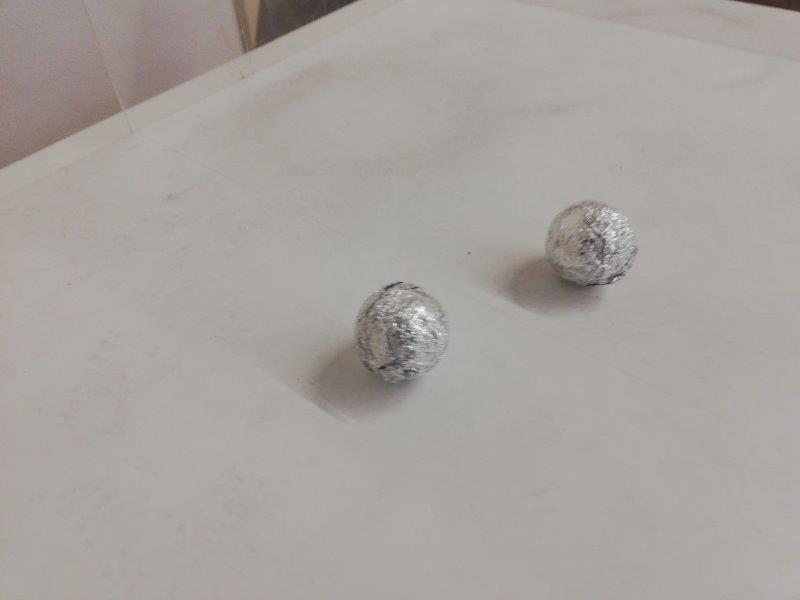bianca: (352, 280, 446, 382), (544, 196, 637, 289)
